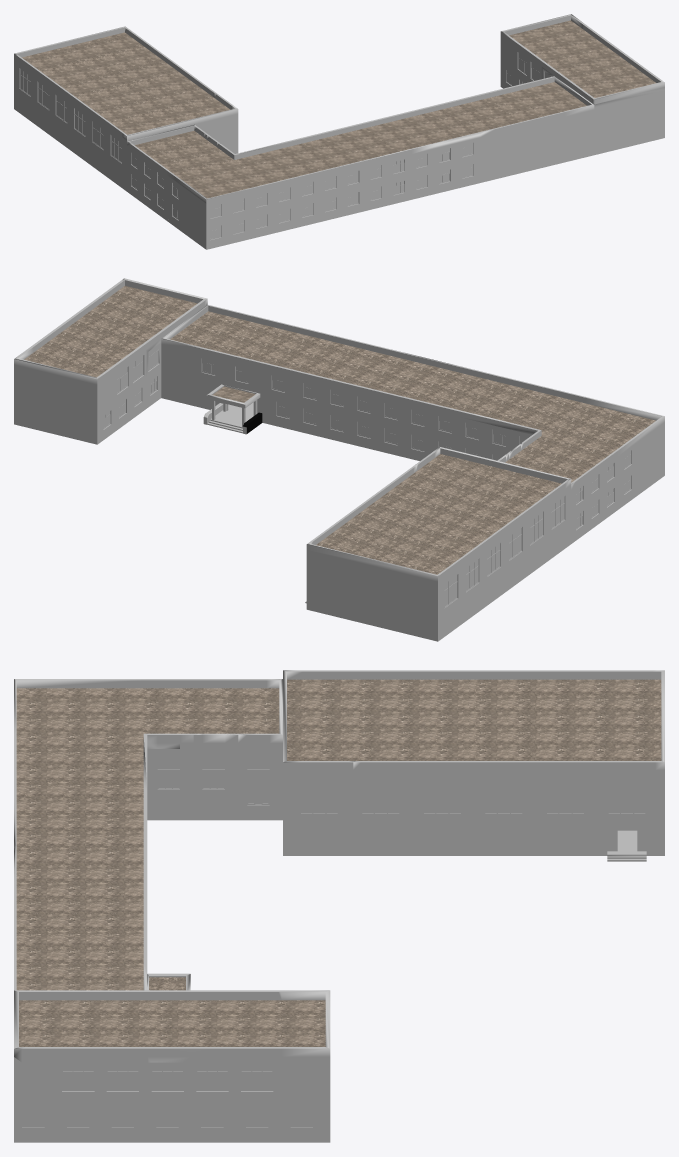
Rendered from SchoolBuilding.FBX.
The picture shows the model from 3 angles, top to bottom: view 1: azimuth 30°, elevation 25°; view 2: azimuth 150°, elevation 25°; view 3: azimuth 270°, elevation 25°; orthographic projection. The views are drawn at different scales.
Parts seen in each view (by area): view 1: Floor2, Box001, Kitchen, BuildingBottom, Glass4, Glass009, GlassLeft, Windows4, Windows009, WindowLeft; view 2: Floor2, Box001, Kitchen, BuildingBottom, Entry, Glass010, GlassLeft, Glass3, Windows010, WindowLeft, Windows3, Glass6; view 3: Box001, Floor2, Kitchen, GlassRight, BuildingBottom, Glass6, Glass5, WindowWoodRight, Windows6, Windows5, Glass007, Entry (+1 smaller).
Part boxes in pixels (bbox=[...]): Floor2: bbox=[127, 76, 594, 246]; Box001: bbox=[14, 26, 238, 188]; Kitchen: bbox=[500, 14, 664, 152]; BuildingBottom: bbox=[14, 84, 664, 249]; Glass4: bbox=[210, 164, 472, 238]; Glass009: bbox=[210, 143, 472, 217]; GlassLeft: bbox=[20, 69, 121, 162]; Windows4: bbox=[210, 164, 473, 239]; Windows009: bbox=[210, 143, 473, 218]; WindowLeft: bbox=[19, 68, 121, 163]; Floor2: bbox=[161, 304, 664, 540]; Box001: bbox=[306, 447, 571, 637]; Kitchen: bbox=[14, 278, 207, 441]; BuildingBottom: bbox=[14, 394, 664, 641]; Entry: bbox=[203, 384, 262, 434]; Glass010: bbox=[202, 359, 527, 444]; GlassLeft: bbox=[444, 497, 564, 606]; Glass3: bbox=[277, 402, 501, 460]; Windows010: bbox=[202, 358, 527, 446]; WindowLeft: bbox=[444, 496, 564, 607]; Windows3: bbox=[276, 402, 501, 460]; Glass6: bbox=[117, 344, 158, 392]; Box001: bbox=[283, 670, 664, 851]; Floor2: bbox=[14, 679, 282, 990]; Kitchen: bbox=[14, 990, 330, 1137]; GlassRight: bbox=[301, 780, 645, 813]; BuildingBottom: bbox=[14, 815, 664, 1142]; Glass6: bbox=[63, 1063, 272, 1090]; Glass5: bbox=[23, 1108, 311, 1126]; WindowWoodRight: bbox=[299, 780, 646, 814]; Windows6: bbox=[62, 1062, 273, 1091]; Windows5: bbox=[22, 1107, 312, 1127]; Glass007: bbox=[158, 749, 268, 767]; Entry: bbox=[147, 973, 190, 990].
Size of the model in its own units: 8007 by 926 by 5819.
